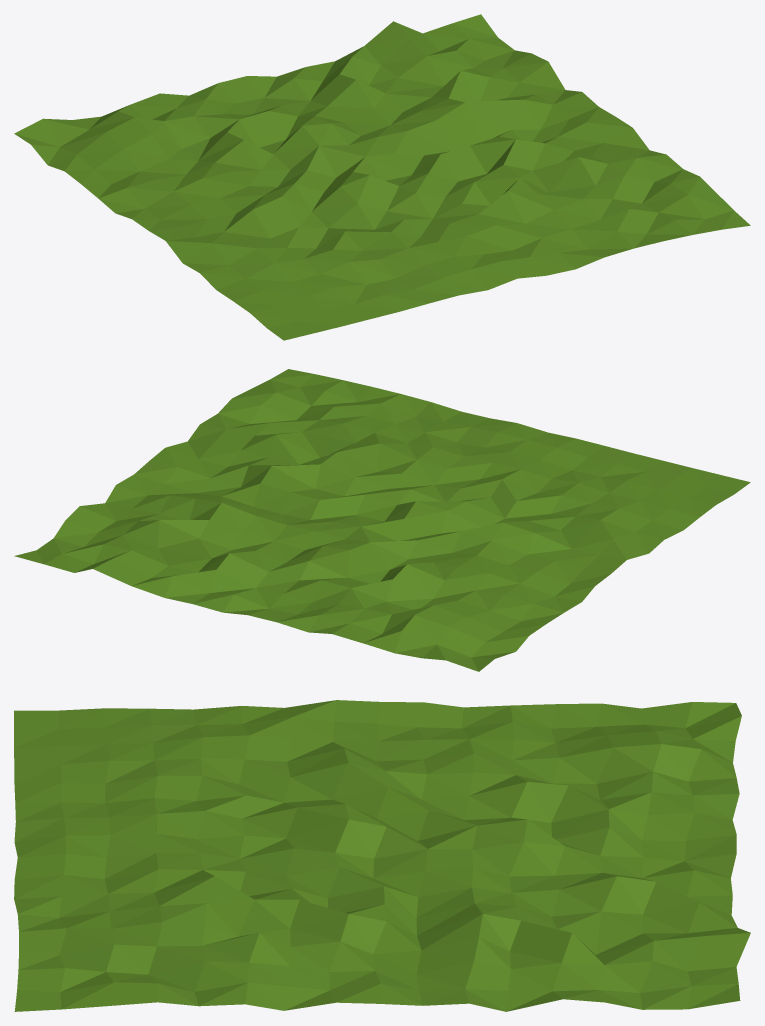
The model's file is basic_terrain.fbx.
3 renders of one model, top to bottom at view 1: azimuth 30°, elevation 25°; view 2: azimuth 150°, elevation 25°; view 3: azimuth 270°, elevation 25°, orthographic. The views are drawn at different scales.
Parts seen in each view (by area): view 1: Plane; view 2: Plane; view 3: Plane.
Boxes of the visible parts, left/top/right/bottom form: Plane: left=14, top=14, right=750, bottom=340; Plane: left=14, top=369, right=750, bottom=671; Plane: left=14, top=700, right=750, bottom=1011.
Bounding box in the file's own units: 690 × 29.88 × 704.
